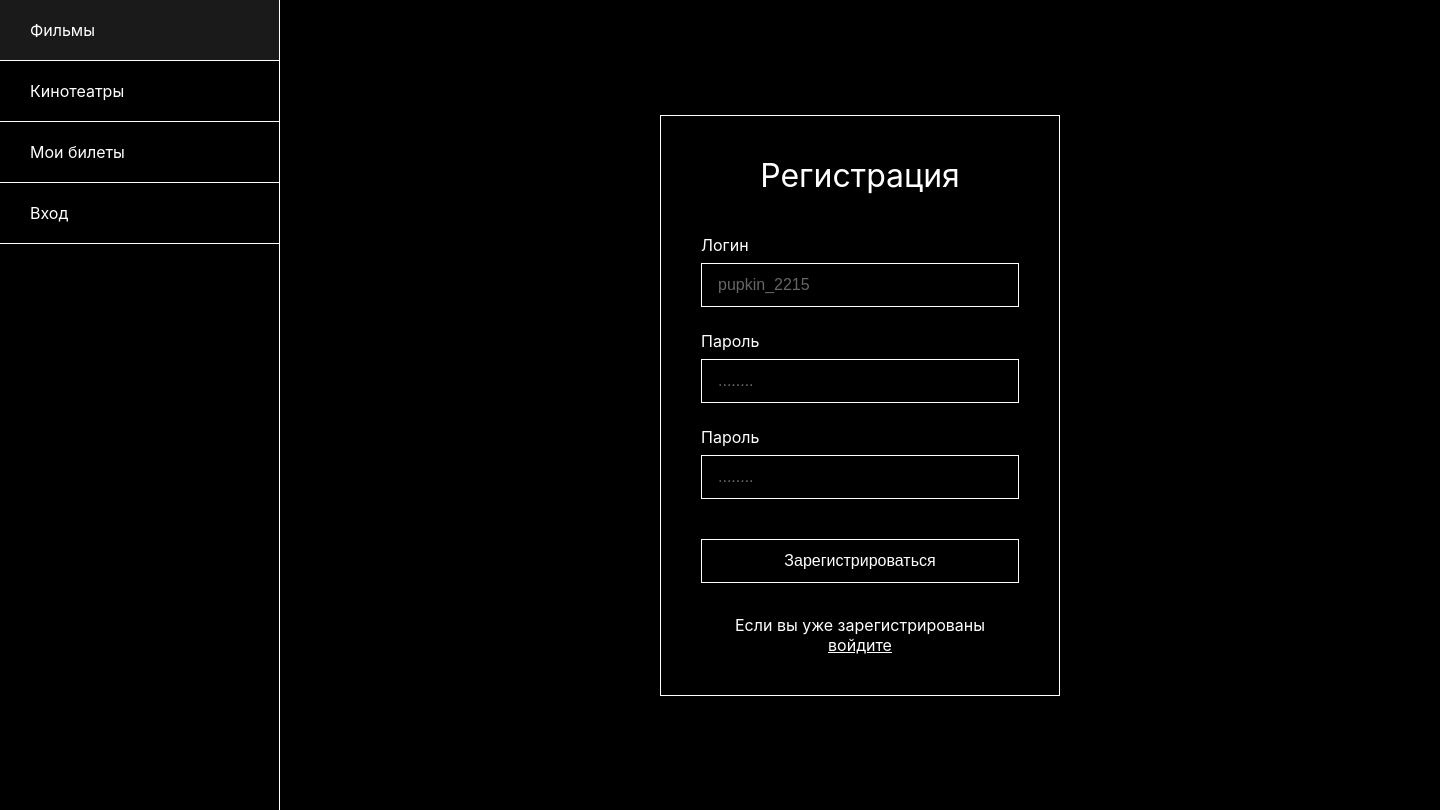
Scenario: RegisterPage › shows validation error for short username
In the field with placeholder "pupkin_2215": (860, 284) 701,262 -> 1019,306, type "short"
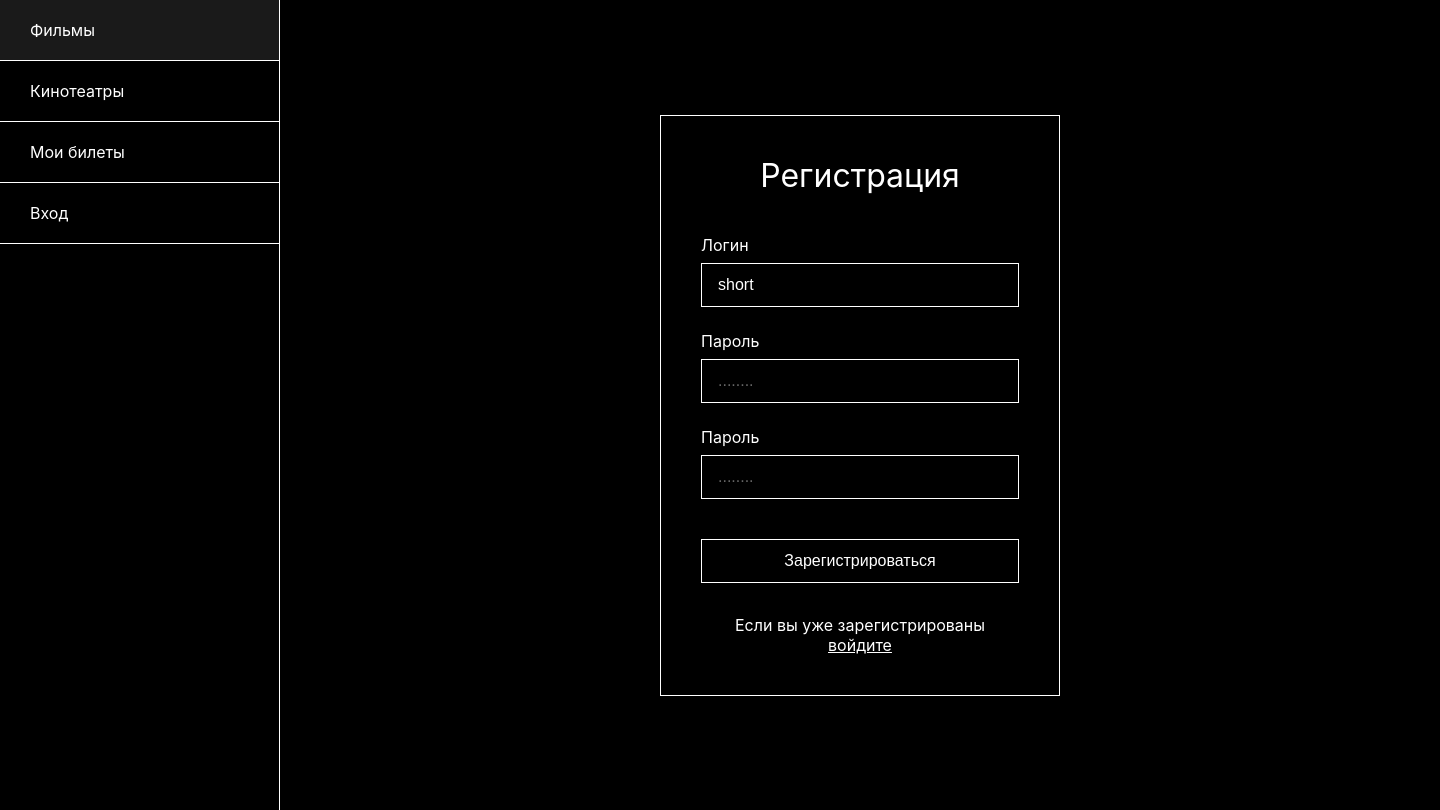
Click the button "Зарегистрироваться": (860, 560) 701,538 -> 1019,582
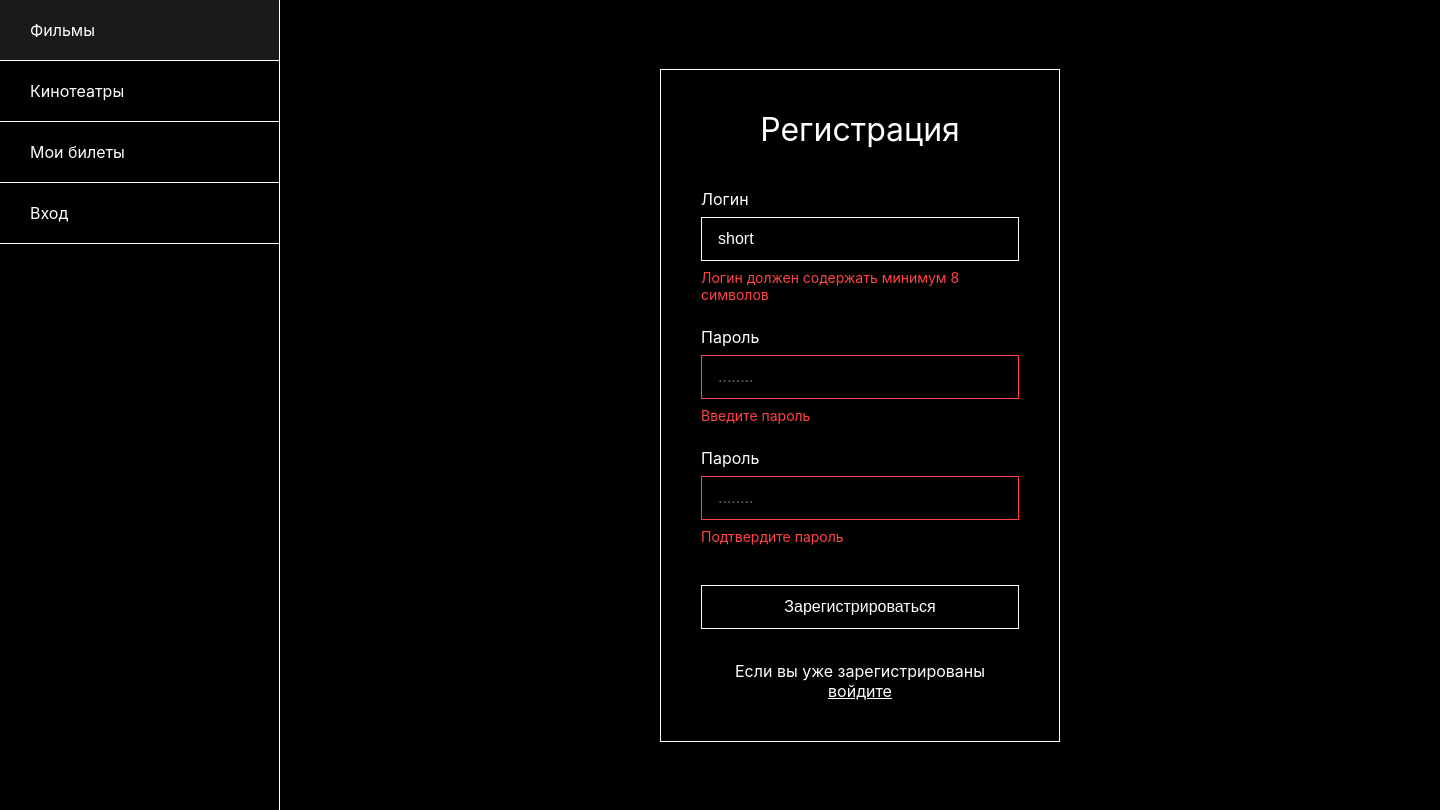
Check: the text "Логин должен содержать минимум 8 символов" is shown, box 701,268 -> 959,302
